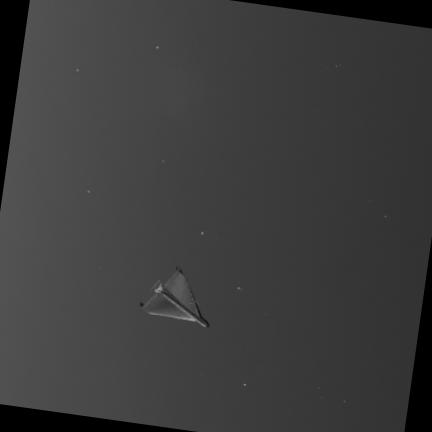Shahed: (139, 267, 207, 326)
